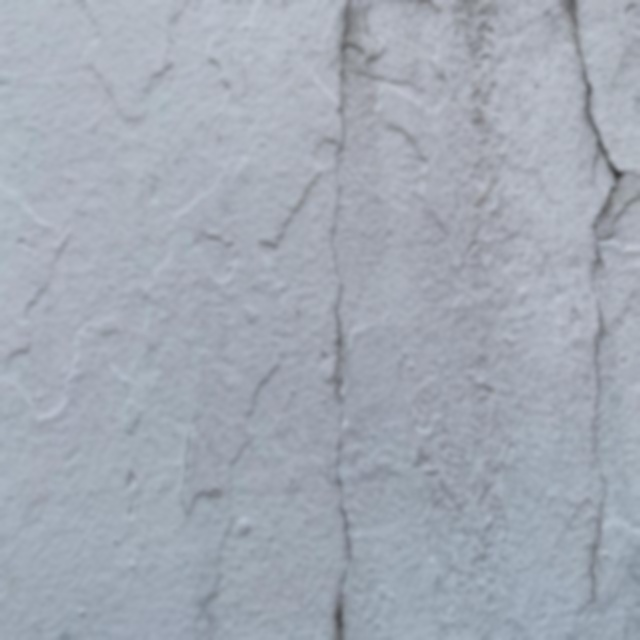SurfaceCrack: (271, 1, 405, 640), (524, 0, 640, 640)
